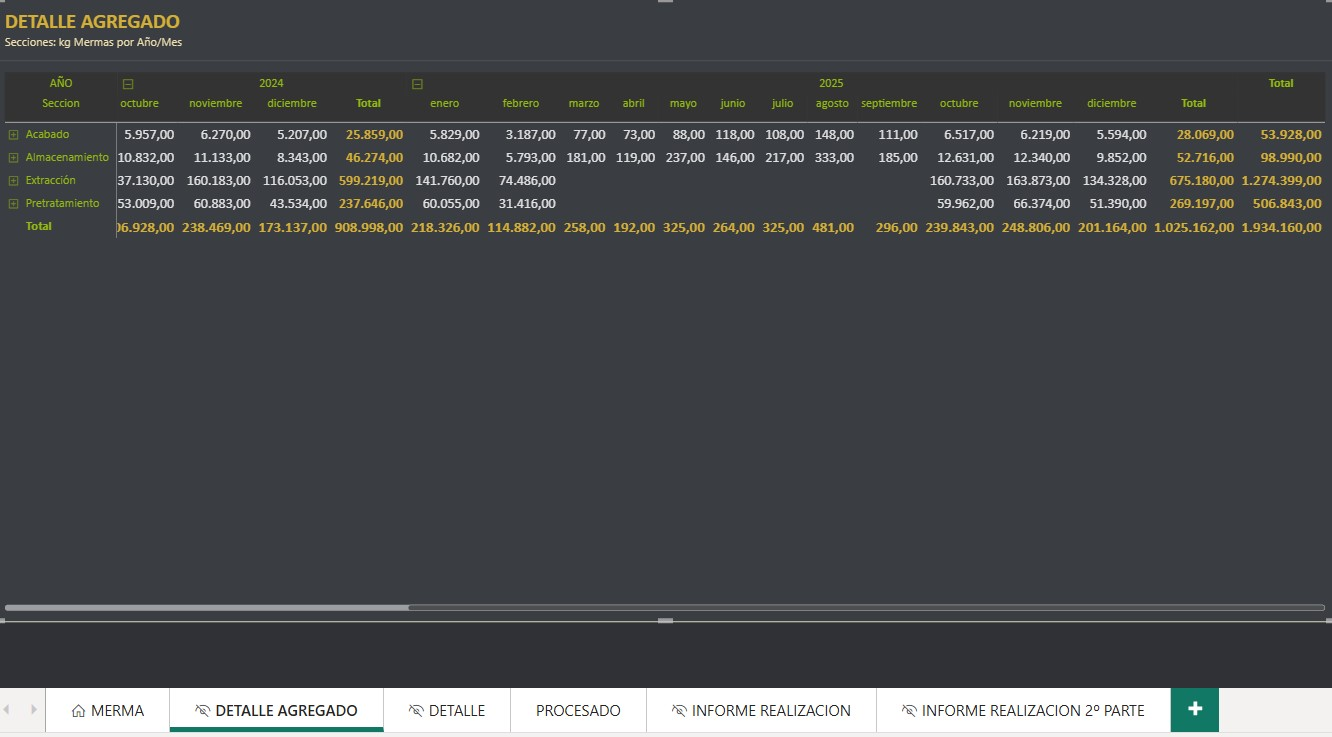

This screenshot's page, from the dashboard's own definition file:
{"tool":"powerbi","page":{"name":"DETALLE AGREGADO","canvas":[1920,1080],"ordinal":1},"visuals":[{"type":"actionButton","box":[0,0,100,40],"z":0},{"type":"pivotTable","title":"DETALLE AGREGADO","fields":{"Columns":["Calendario.AÑO","Calendario.MES_LETRA"],"Rows":["Dim_Lineas.Seccion","Dim_Lineas.Nombre"],"Values":["Fact_Produccion.TOTAL KG MERMA"]},"box":[0,94.3,1920,891.4],"z":1000}]}

Visuals, with their boxes on the page's 1920x1080 design canvas (x1, y1, x2, y2). These are canvas units, not pixel positions in the 1332x737 screenshot, which may show the page scaled, cropped or inside an application window:
actionButton: x1=0, y1=0, x2=100, y2=40
"DETALLE AGREGADO" pivotTable: x1=0, y1=94, x2=1920, y2=986
